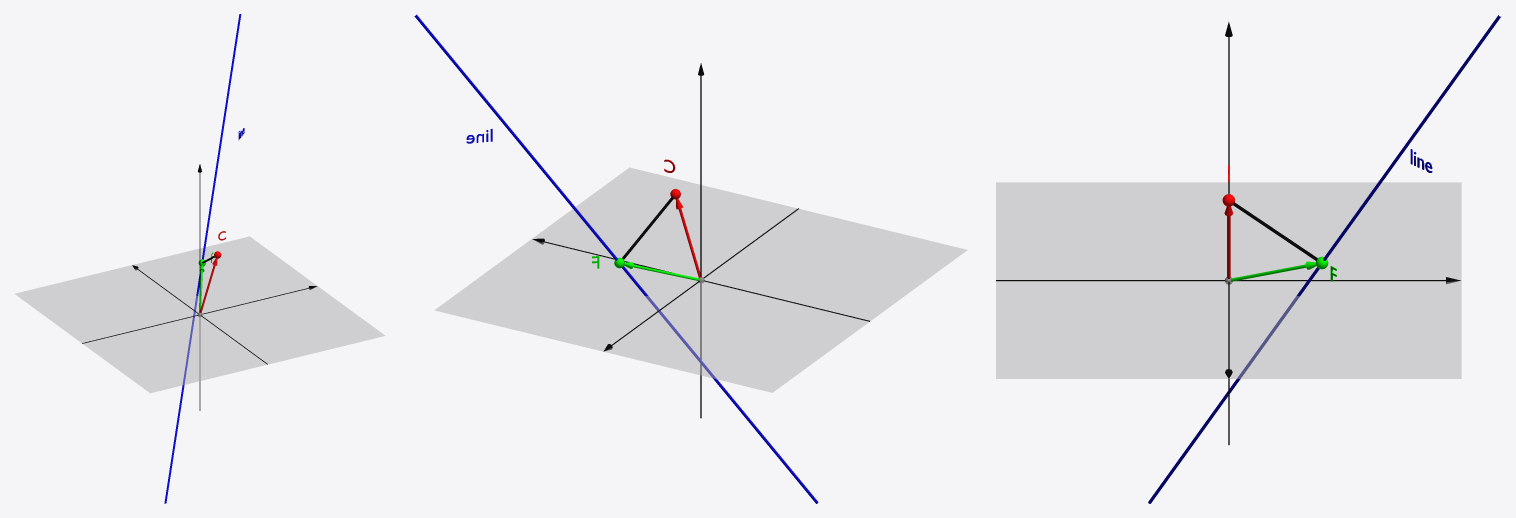
Rendered from 2.2.2 foot_e.glb.
The picture shows the model from 3 angles, left to right: view 1: azimuth 30°, elevation 25°; view 2: azimuth 150°, elevation 25°; view 3: azimuth 270°, elevation 25°; orthographic projection. The views are drawn at different scales.
Visible parts, largest first — view 1: xOyPlane, f, zAxis; view 2: xOyPlane, f, zAxis; view 3: xOyPlane, f, yAxis.
Boxes of the visible parts, box(x1,y1,x2,y2) form: xOyPlane: box(15, 236, 385, 393); f: box(164, 14, 241, 503); zAxis: box(198, 164, 201, 410); xOyPlane: box(435, 167, 967, 392); f: box(414, 14, 818, 503); zAxis: box(698, 63, 703, 418); xOyPlane: box(996, 182, 1461, 378); f: box(1148, 15, 1500, 503); yAxis: box(996, 277, 1460, 283).
Size of the model in its own units: 0.1347 by 0.2013 by 0.1447.
